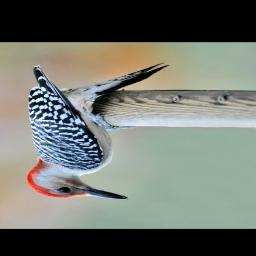Woodpecker: (13, 53, 180, 206)
